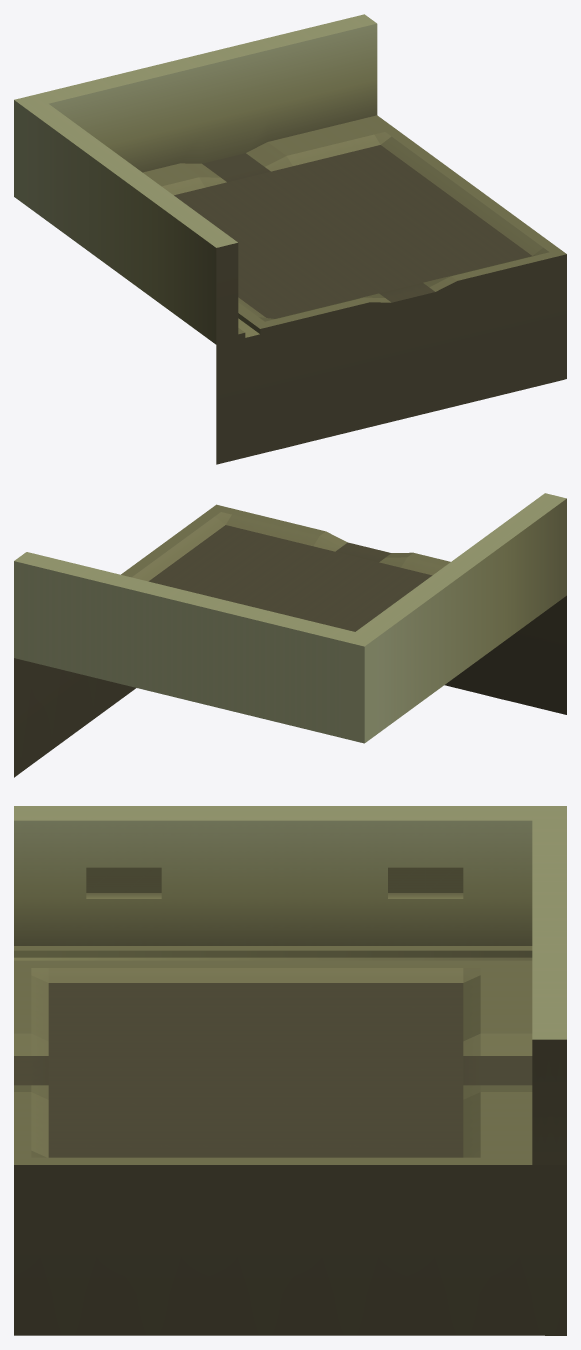
Rendered from MapaNuevo.fbx.
3 views of the same model, one above another, from view 1: azimuth 30°, elevation 25°; view 2: azimuth 150°, elevation 25°; view 3: azimuth 270°, elevation 25° (orthographic). The views are drawn at different scales.
Parts seen in each view (by area): view 1: A-1.001; view 2: A-1.001; view 3: A-1.001.
Part boxes in pixels (x1,y1,x2,y2): A-1.001: (14,14,566,464); A-1.001: (14,493,566,777); A-1.001: (14,806,566,1335).
Size of the model in its own units: 3200 by 1891 by 3200.
